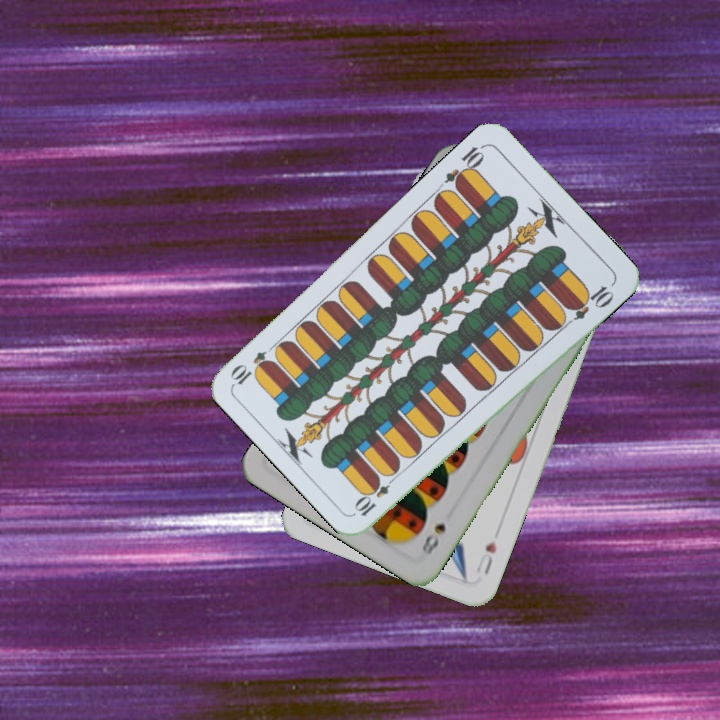E10: (441, 140, 488, 192), (351, 470, 400, 519)
HU: (472, 536, 499, 577)
S8: (417, 519, 449, 558)
